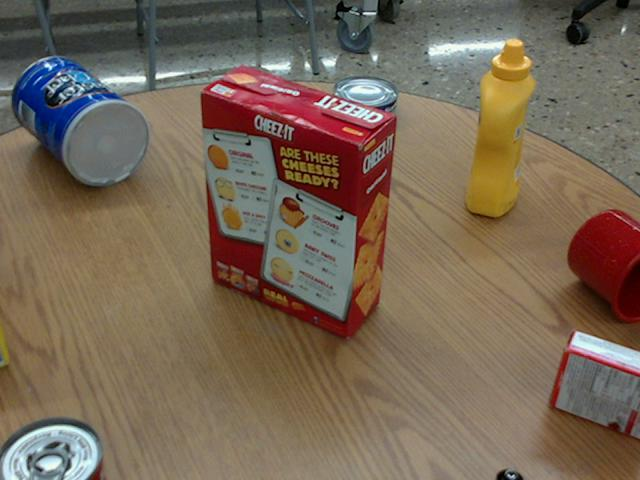cracker_box: (202, 66, 398, 336)
gelatin_box: (551, 331, 639, 439)
large_marker: (503, 473, 528, 479)
master_chef_can: (14, 57, 151, 186)
mug: (568, 209, 639, 322)
mustard_bottle: (466, 38, 535, 215)
potted_meat_can: (234, 87, 320, 195)
sugar_box: (0, 308, 13, 366)
tomato_soup_can: (1, 416, 111, 479)
tuna_fish_can: (333, 73, 399, 127)
